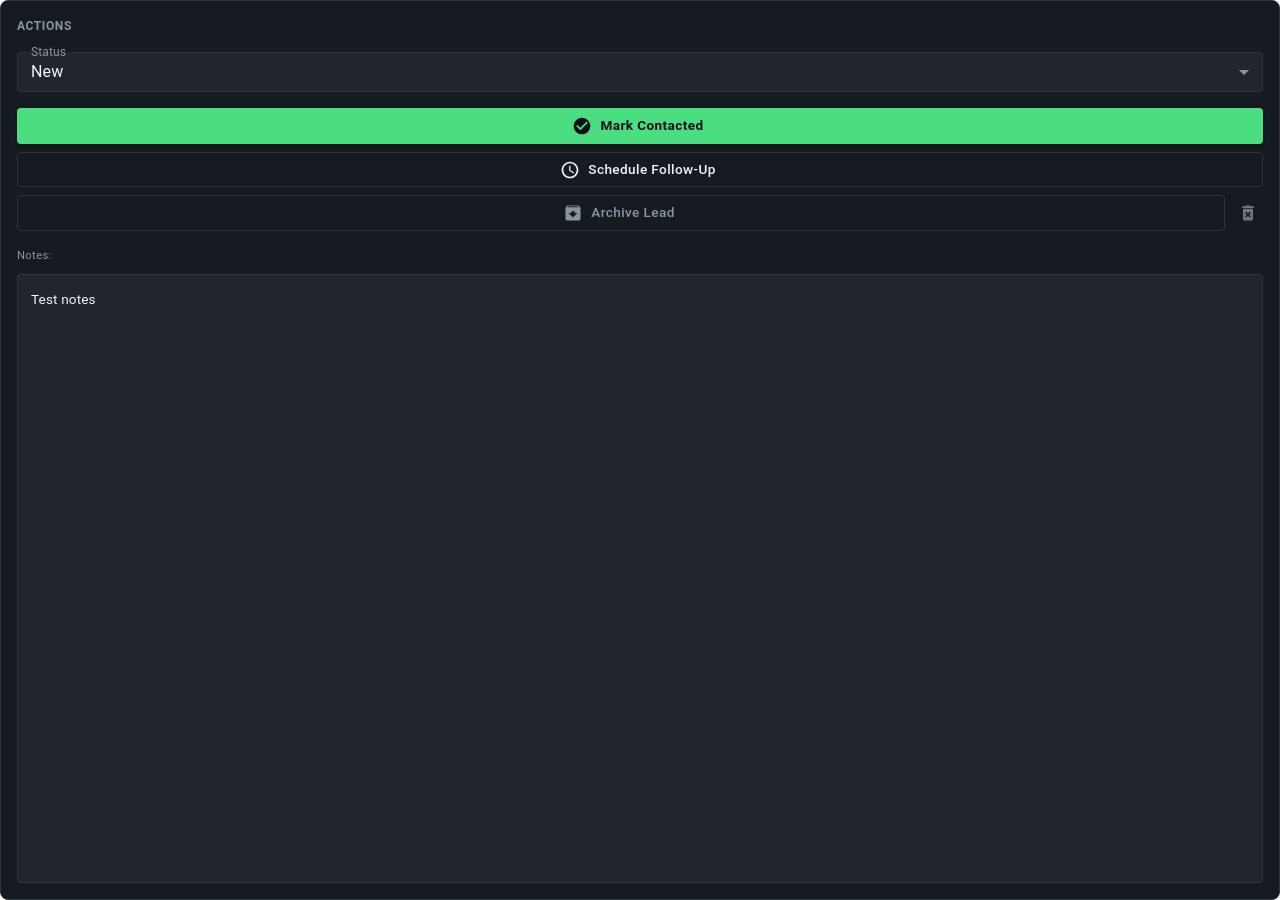
Test: ActionsSection › Delete Permanently icon button › should close dialog when Cancel is clicked
Note: Open dialog
Click the button with test id "DeleteForeverIcon" at {"x": 1248, "y": 213}, box [1233, 198, 1263, 228]
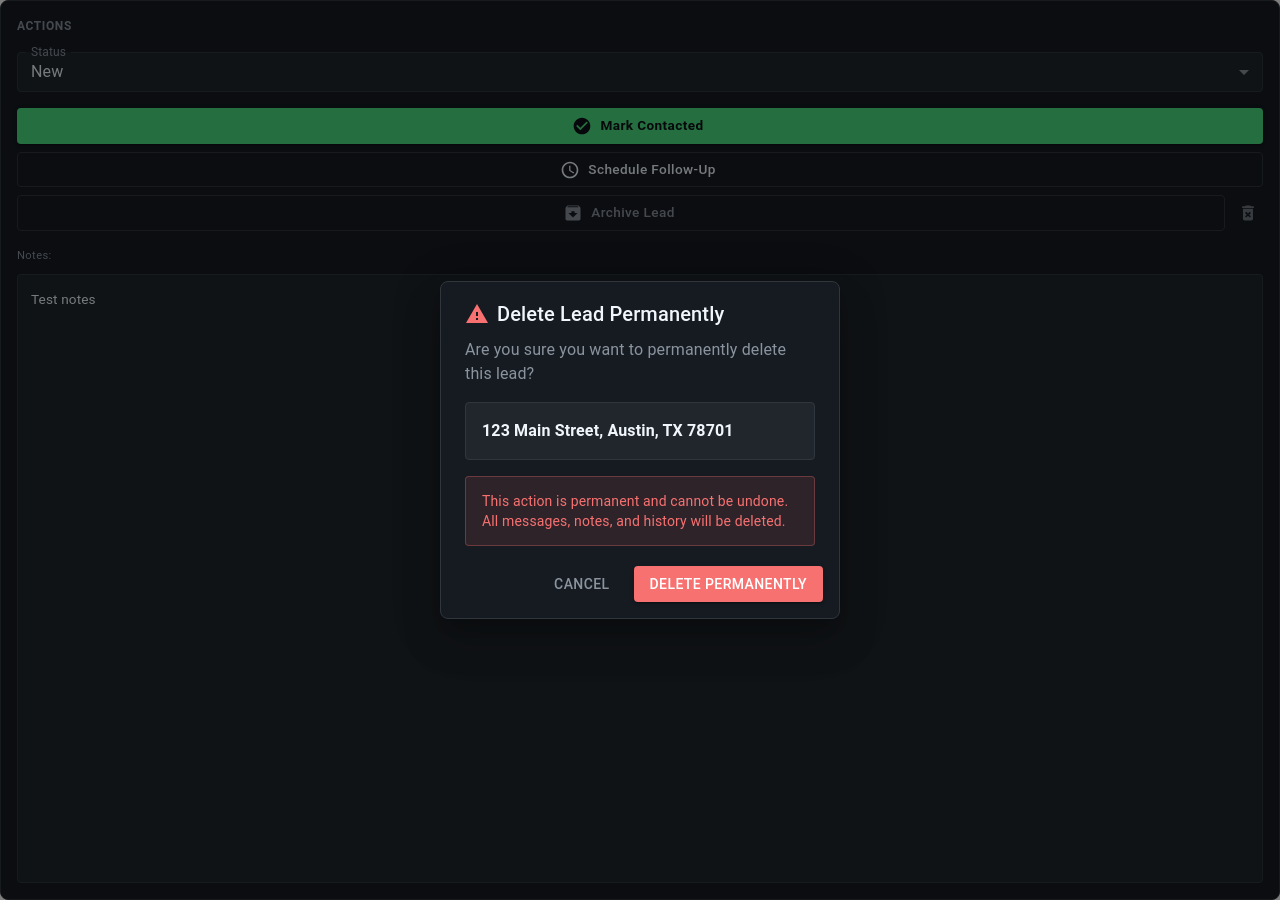
Expected: the heading "Delete Lead Permanently" is shown, [465, 302, 724, 326]
Note: Click Cancel
Click the button "Cancel" at {"x": 582, "y": 584}, box [546, 566, 618, 602]
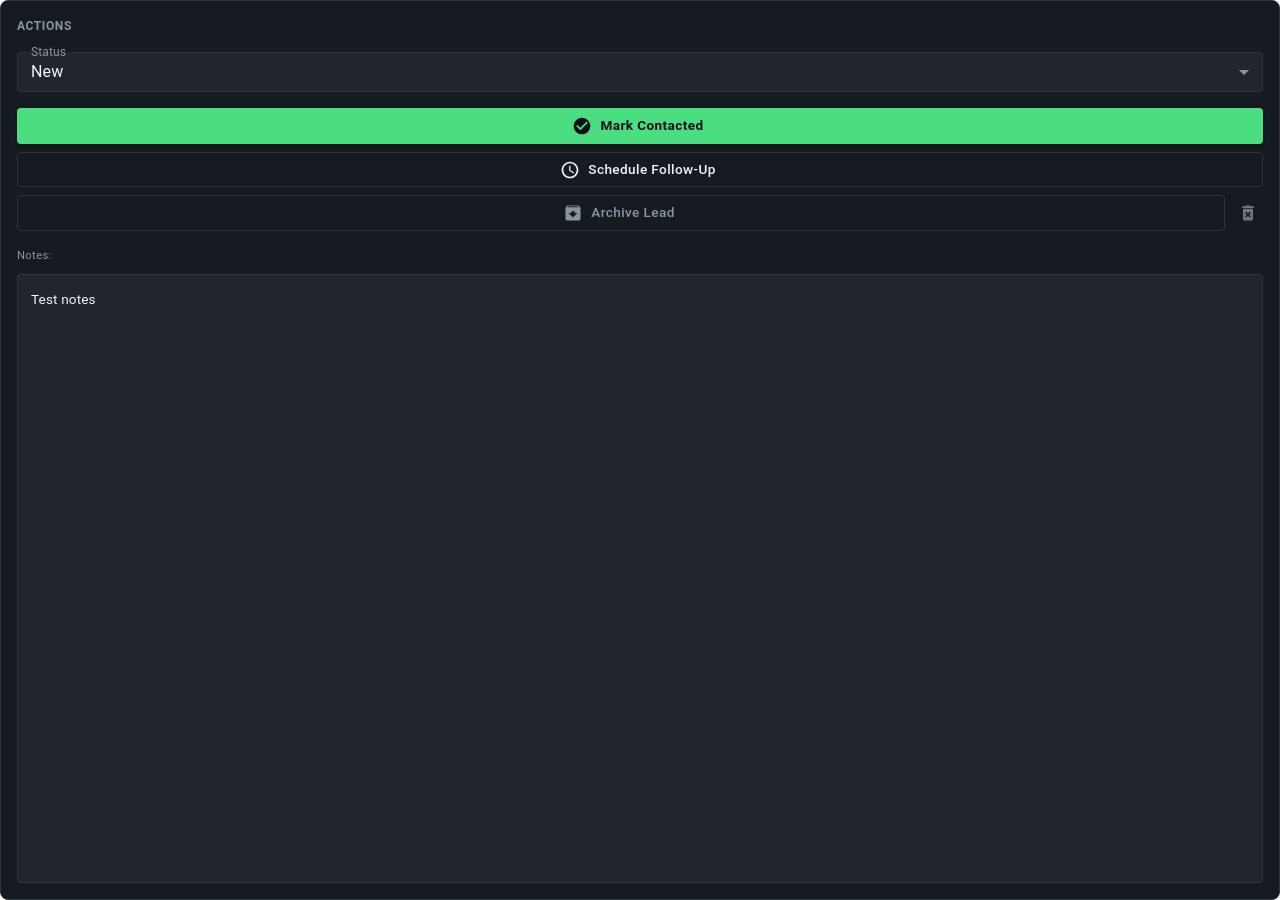
Expected: the heading "Delete Lead Permanently" is gone
